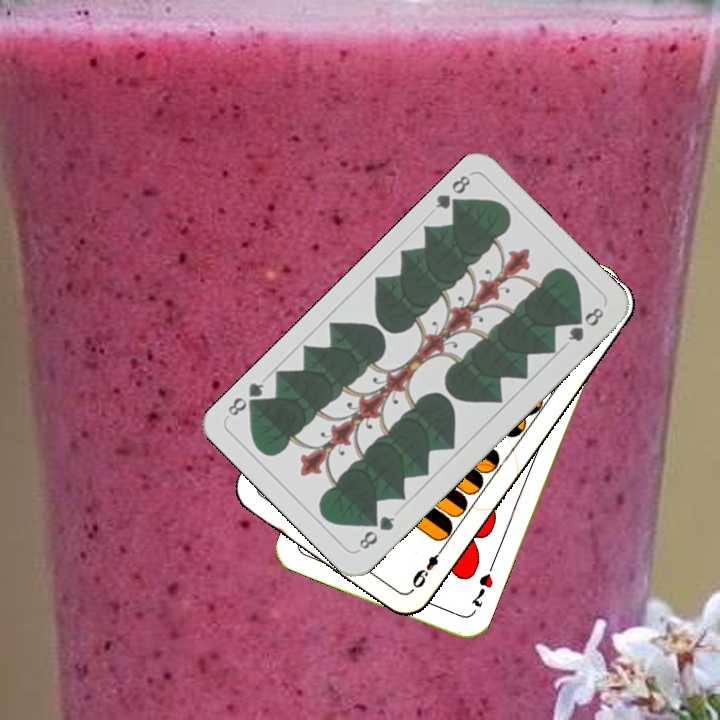E9: (408, 542, 447, 591)
G8: (431, 171, 473, 216), (354, 511, 398, 552)
H7: (466, 569, 496, 610)
